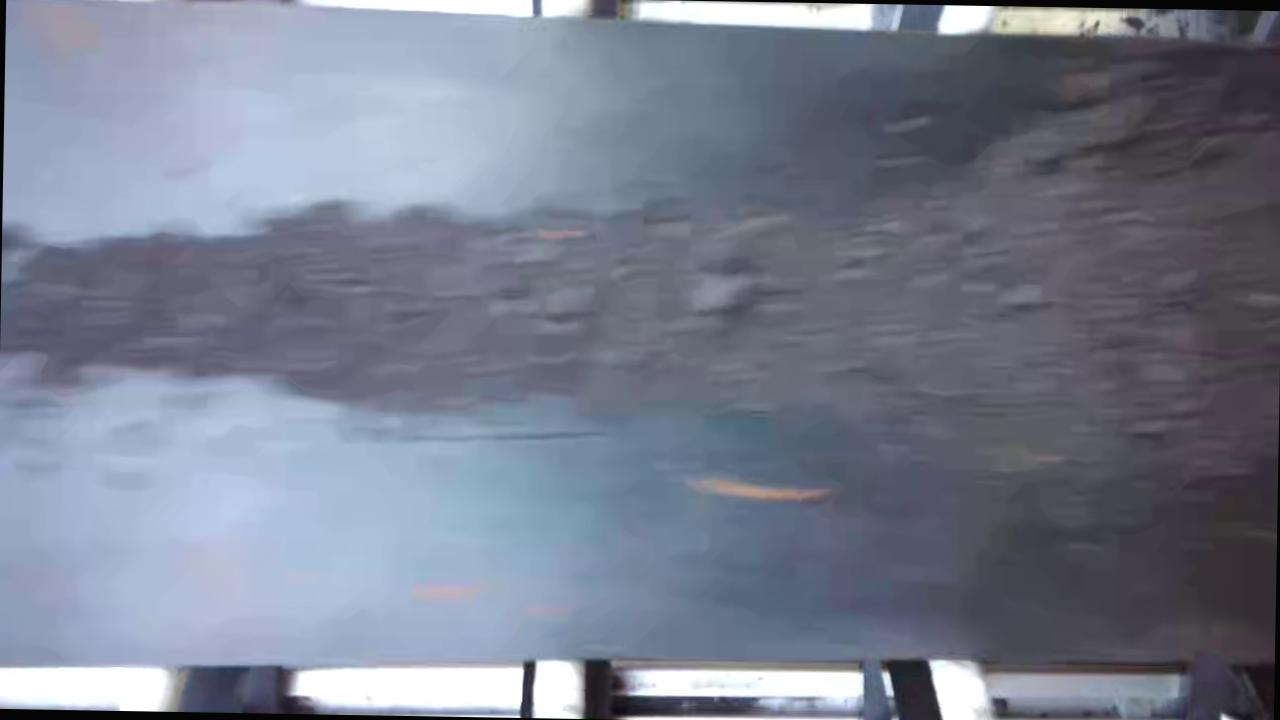conveyor: (0, 16, 1280, 666)
